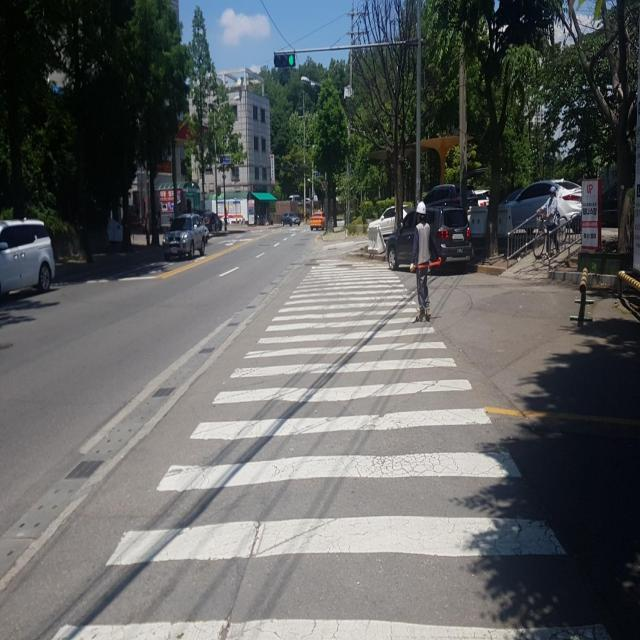횡단보도: (49, 256, 616, 639)
